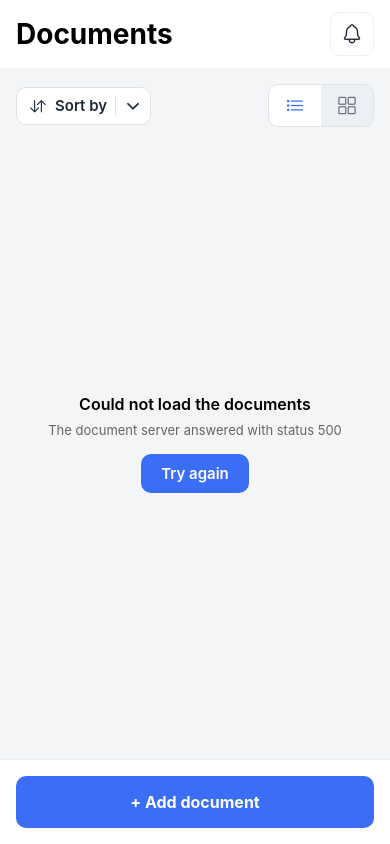
DocumentListScreen refreshing › retries after a failure
Expected: the text "Could not load the documents" is shown, [79, 394, 311, 414]
Click the button labelled "Try again".
click(195, 473)  # box [141, 454, 249, 492]
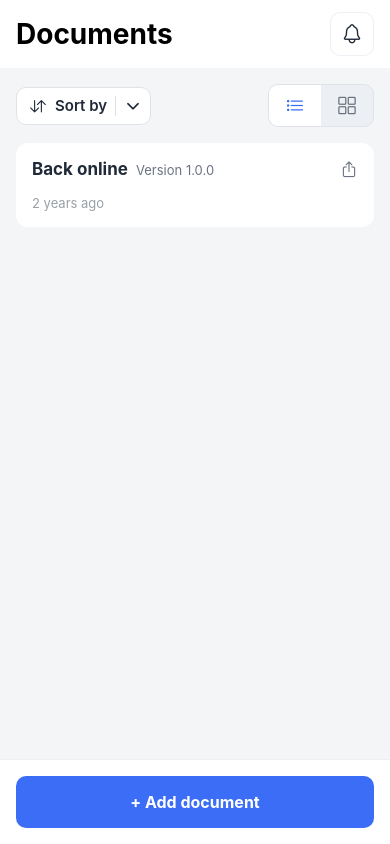
Now the text "Back online" is shown, box [32, 159, 128, 179]
